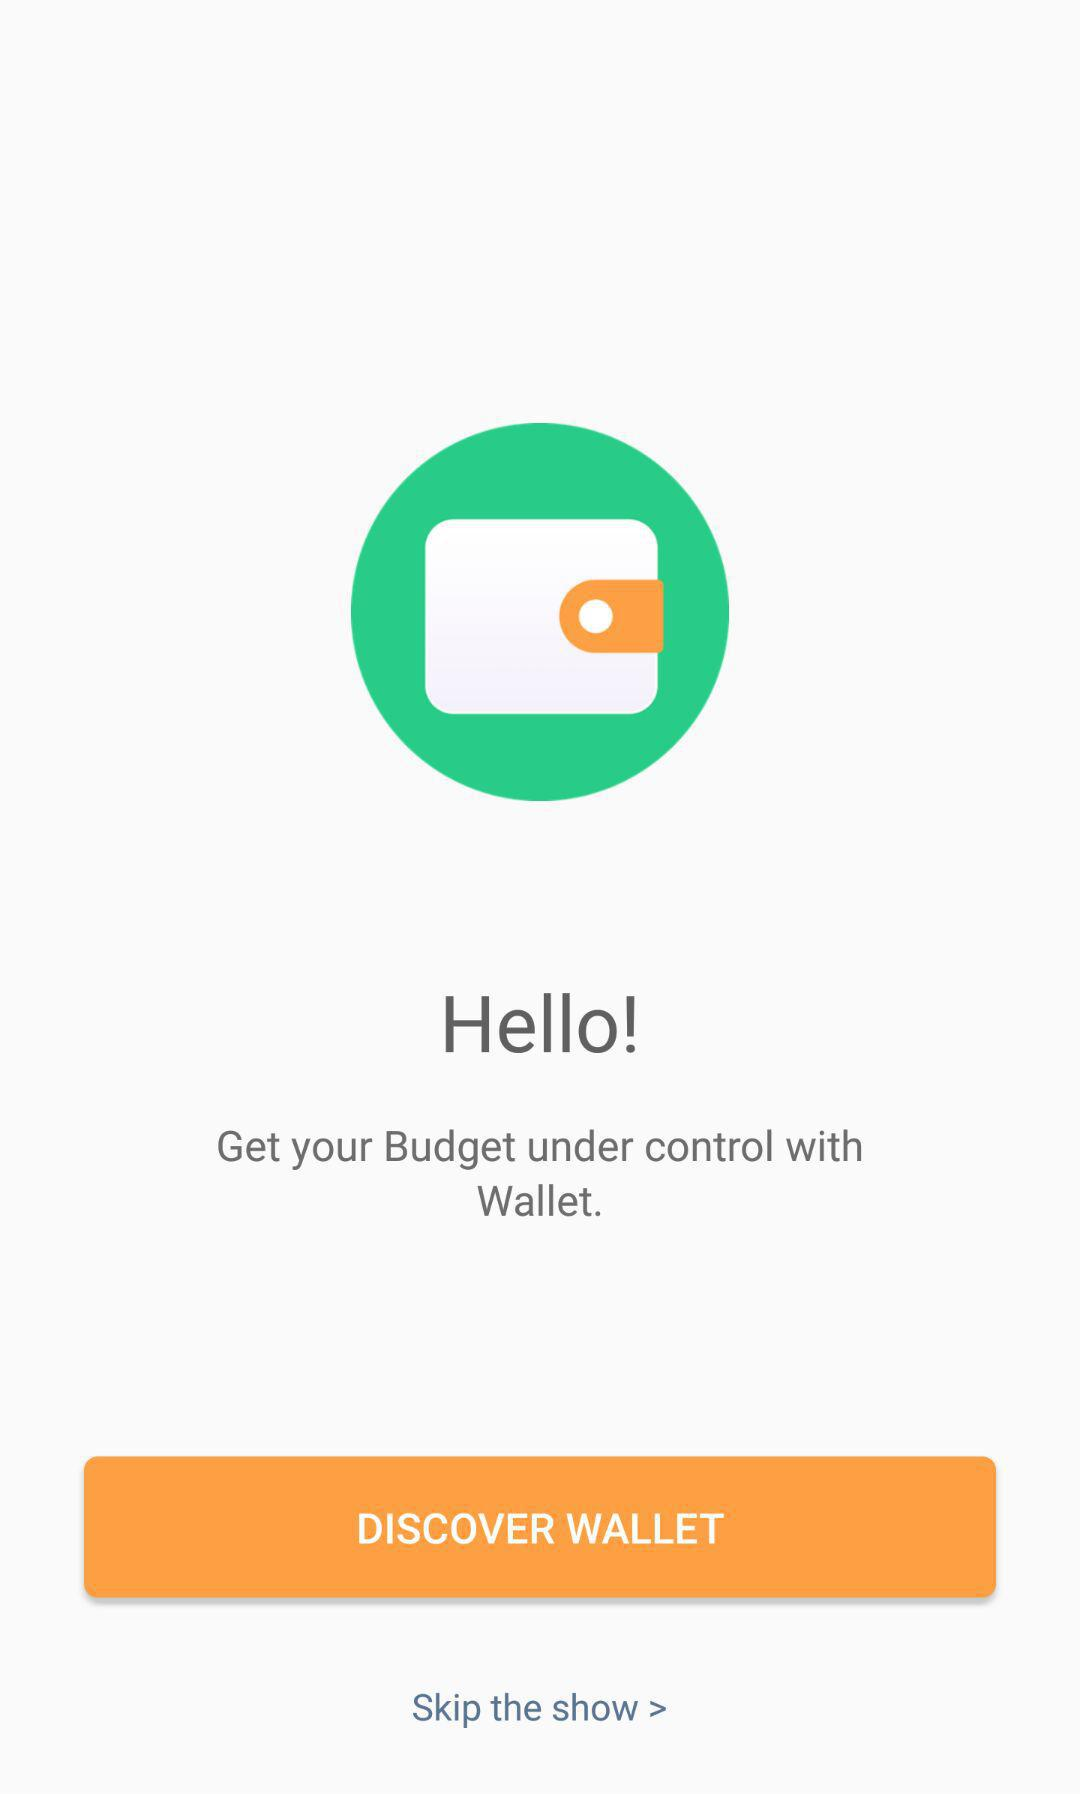Icon: (650, 1700, 667, 1718)
Image: (350, 422, 732, 803)
Text: (217, 1128, 862, 1219), (445, 992, 637, 1055), (413, 1691, 641, 1729)
TextButton: (85, 1454, 997, 1599)
